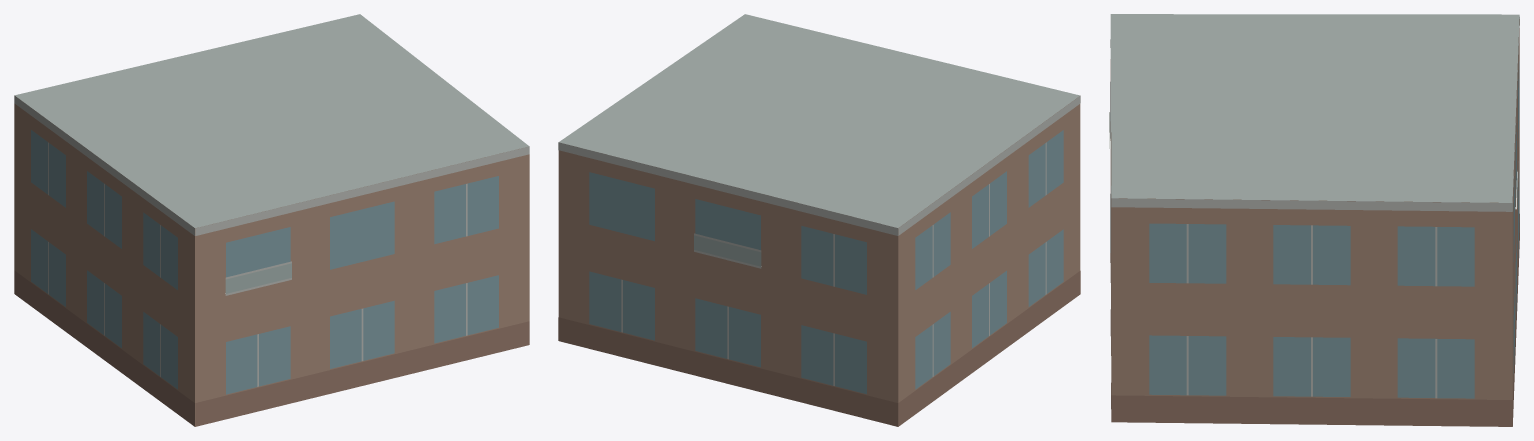
File: survey-upis-32885131.glb
The picture shows the model from 3 angles, left to right: view 1: azimuth 30°, elevation 25°; view 2: azimuth 150°, elevation 25°; view 3: azimuth 270°, elevation 25°; orthographic projection. The views are drawn at different scales.
Parts seen in each view (by area): view 1: survey-upis-32885131.tmp; view 2: survey-upis-32885131.tmp; view 3: survey-upis-32885131.tmp.
Part boxes in pixels (box(x1,y1,x2,y2)): survey-upis-32885131.tmp: box(14, 14, 529, 426); survey-upis-32885131.tmp: box(558, 14, 1080, 426); survey-upis-32885131.tmp: box(1109, 14, 1519, 426).
Bounding box in the file's own units: 11.05 × 6.1 × 10.14.
